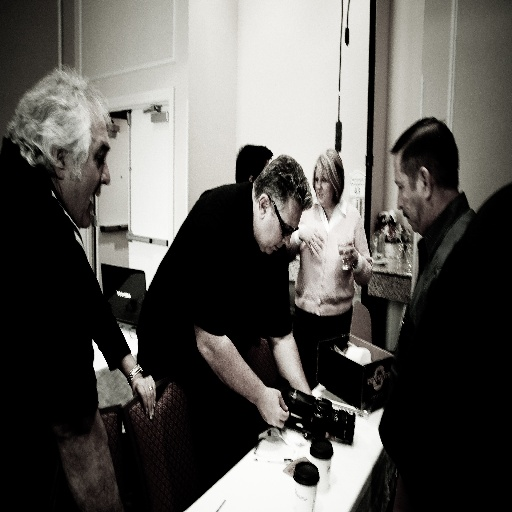hand: (255, 383, 292, 443), (132, 373, 157, 423), (299, 226, 326, 258), (339, 236, 358, 268)
